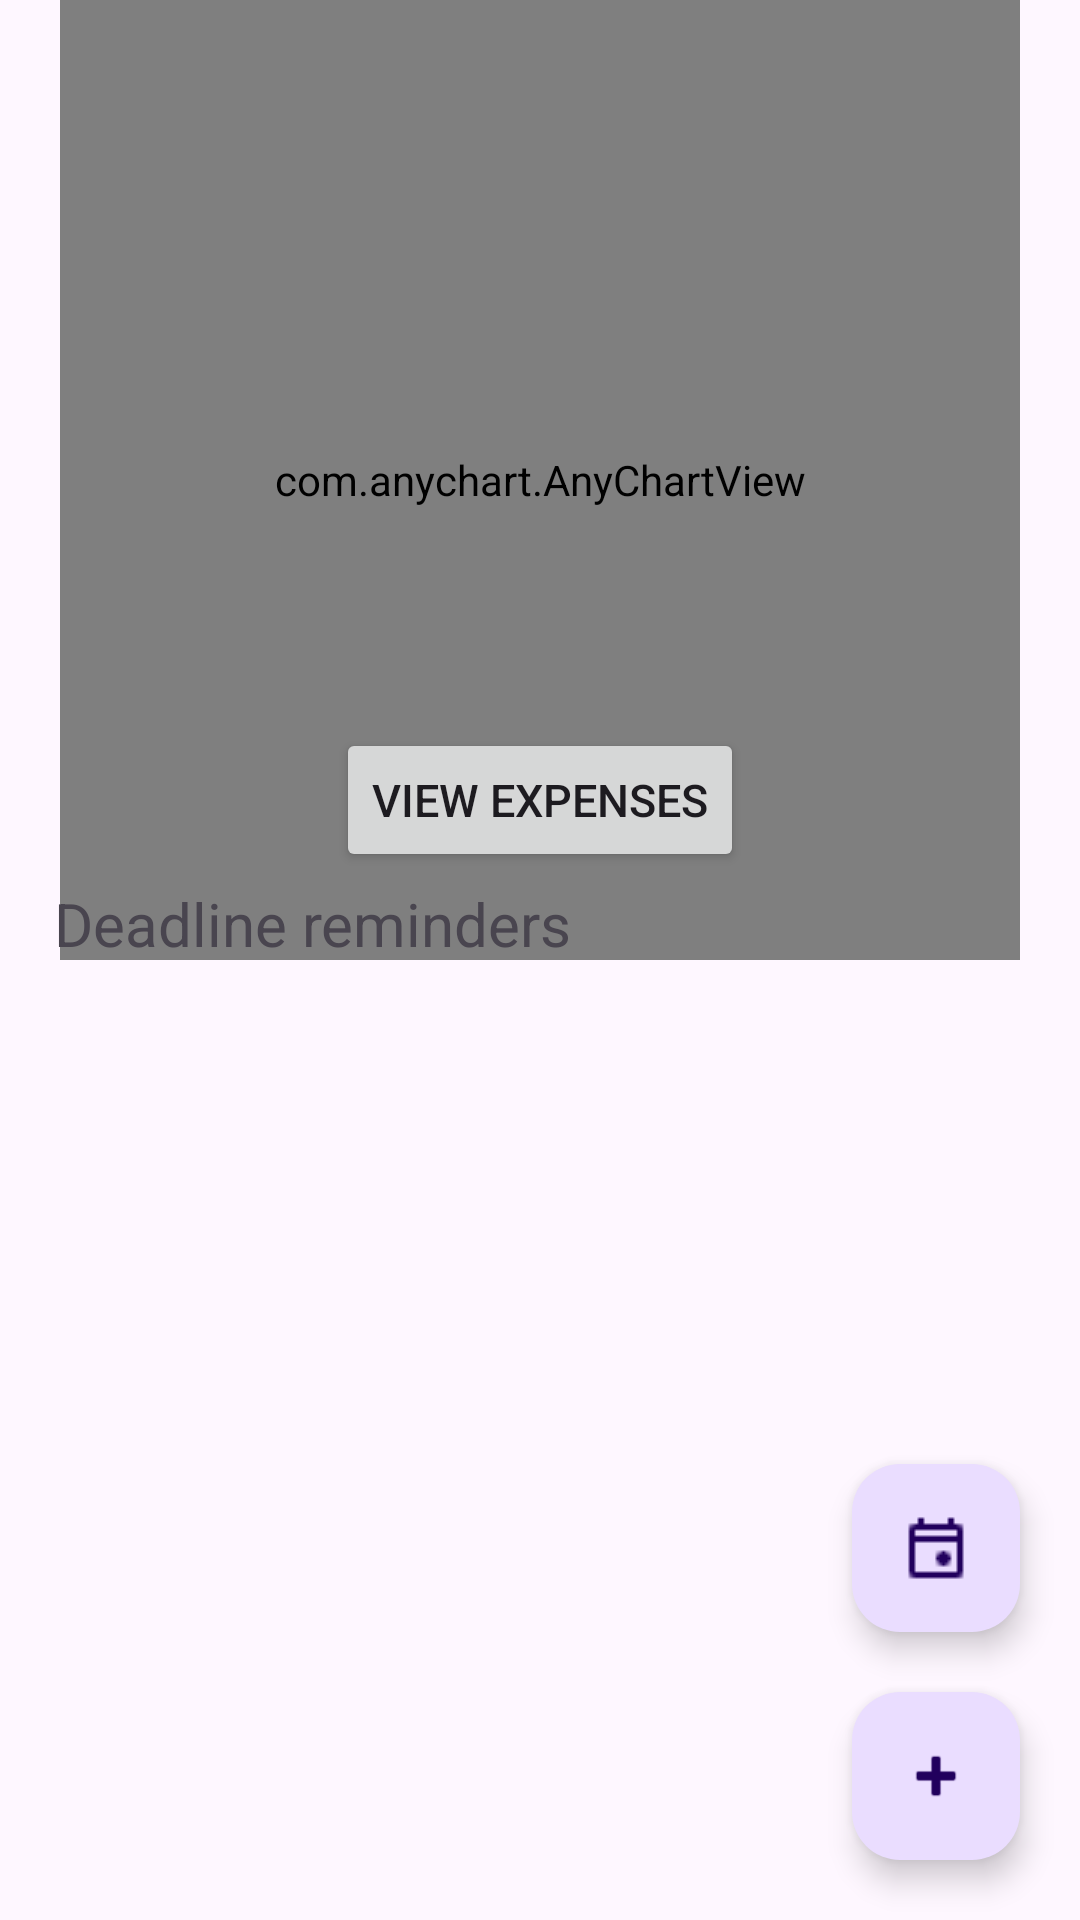

Screen size 1080x1920. Icon name, then its box in pixels as (x1, y1, x2, y2):
add: (852, 1692, 1020, 1860)
event: (852, 1464, 1020, 1632)
